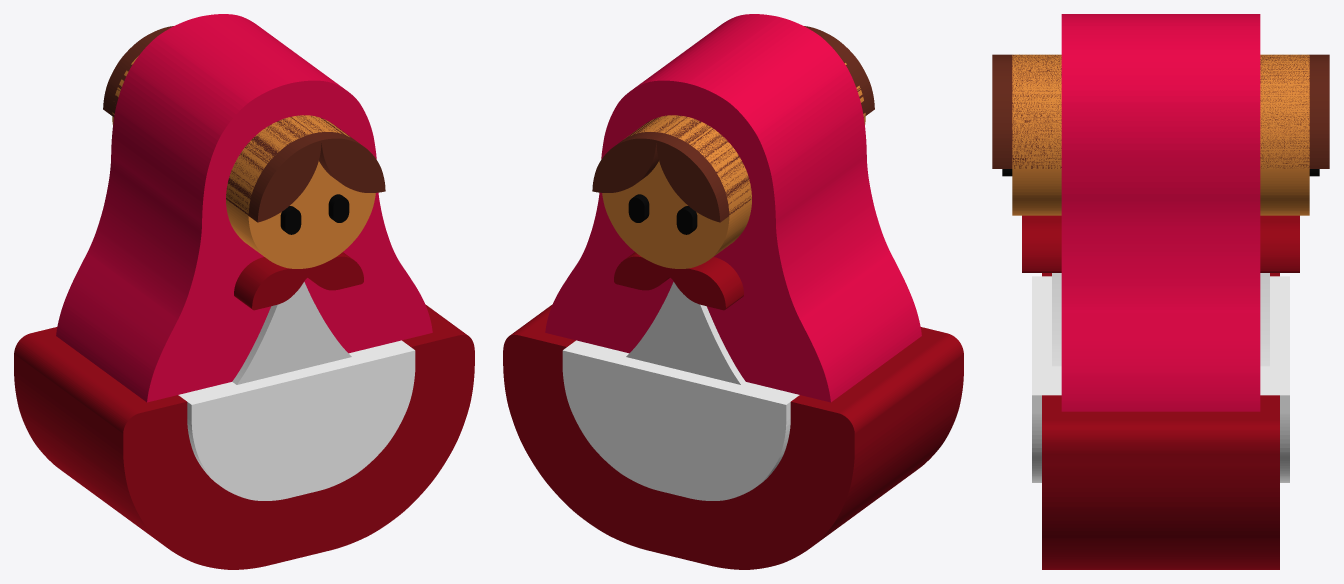
3 renders of one model, left to right at view 1: azimuth 30°, elevation 25°; view 2: azimuth 150°, elevation 25°; view 3: azimuth 270°, elevation 25°, orthographic. The views are drawn at different scales.
Visible parts, largest first — view 1: U+1FA86_layer00_obj00, U+1FA86_layer02_obj00, U+1FA86_layer03_obj00, U+1FA86_layer05_obj00, U+1FA86_layer07_obj00, U+1FA86_layer01_obj00, U+1FA86_layer04_obj00, U+1FA86_layer06_obj00; view 2: U+1FA86_layer00_obj00, U+1FA86_layer02_obj00, U+1FA86_layer03_obj00, U+1FA86_layer05_obj00, U+1FA86_layer07_obj00, U+1FA86_layer01_obj00, U+1FA86_layer04_obj00, U+1FA86_layer06_obj00; view 3: U+1FA86_layer00_obj00, U+1FA86_layer02_obj00, U+1FA86_layer05_obj00, U+1FA86_layer07_obj00, U+1FA86_layer03_obj00, U+1FA86_layer04_obj00, U+1FA86_layer01_obj00.
Part boxes in pixels (x1,y1,x2,y2): U+1FA86_layer00_obj00: (56,14,432,402); U+1FA86_layer02_obj00: (14,304,474,569); U+1FA86_layer03_obj00: (178,340,415,500); U+1FA86_layer05_obj00: (112,56,375,268); U+1FA86_layer07_obj00: (103,26,385,222); U+1FA86_layer01_obj00: (232,282,351,384); U+1FA86_layer04_obj00: (234,252,363,310); U+1FA86_layer06_obj00: (280,194,349,234); U+1FA86_layer00_obj00: (545,14,921,402); U+1FA86_layer02_obj00: (503,304,963,569); U+1FA86_layer03_obj00: (562,340,799,500); U+1FA86_layer05_obj00: (602,63,865,268); U+1FA86_layer07_obj00: (592,26,874,222); U+1FA86_layer01_obj00: (626,282,745,384); U+1FA86_layer04_obj00: (614,252,743,310); U+1FA86_layer06_obj00: (628,194,697,234); U+1FA86_layer00_obj00: (1061,14,1260,411); U+1FA86_layer02_obj00: (1042,273,1279,569); U+1FA86_layer05_obj00: (1012,54,1309,215); U+1FA86_layer07_obj00: (992,54,1329,168); U+1FA86_layer03_obj00: (1032,276,1289,482); U+1FA86_layer04_obj00: (1022,215,1299,272); U+1FA86_layer01_obj00: (1052,273,1269,366).
Bounding box in the file's own units: 0.4466 × 0.5677 × 0.34.
